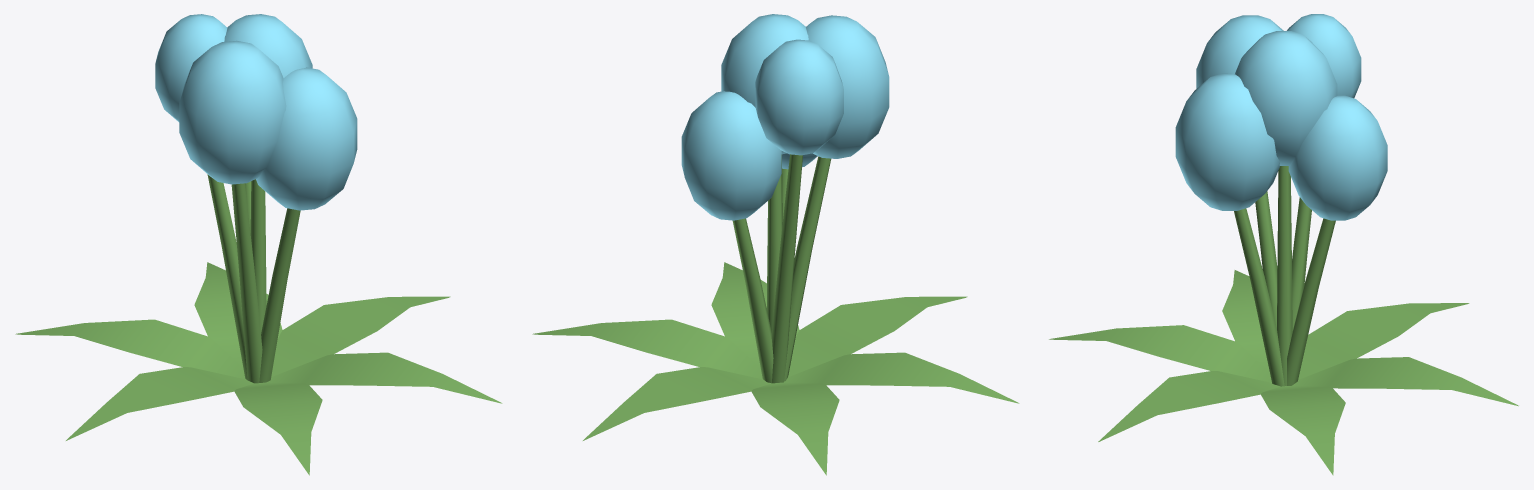
File: plant_sodium.fbx
3 views of the same model, side by side, from view 1: azimuth 30°, elevation 25°; view 2: azimuth 150°, elevation 25°; view 3: azimuth 270°, elevation 25° (orthographic). The views are drawn at different scales.
Visible parts, largest first — view 1: plant_sodium_LOD0; view 2: plant_sodium_LOD0; view 3: plant_sodium_LOD0.
Part boxes in pixels (bbox=[...]): plant_sodium_LOD0: bbox=[15, 14, 502, 475]; plant_sodium_LOD0: bbox=[532, 14, 1019, 475]; plant_sodium_LOD0: bbox=[1049, 14, 1518, 475].
Bounding box in the file's own units: 1.54 × 1.28 × 1.49.
